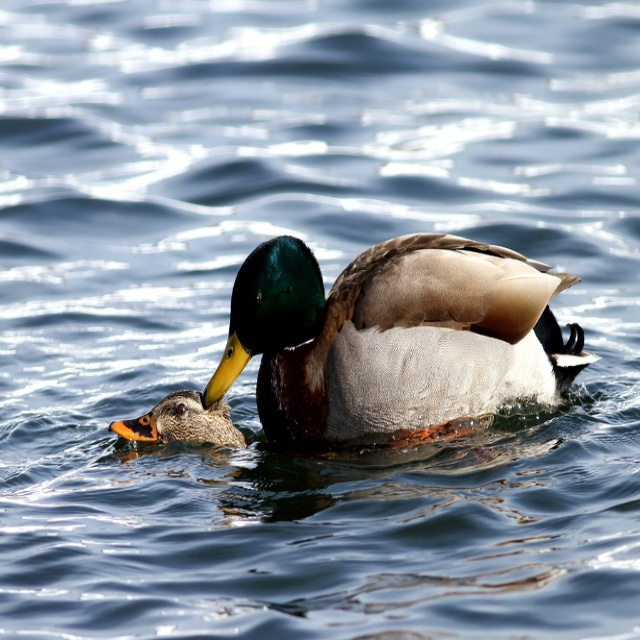Duck: (200, 230, 600, 445), (106, 384, 249, 456)
